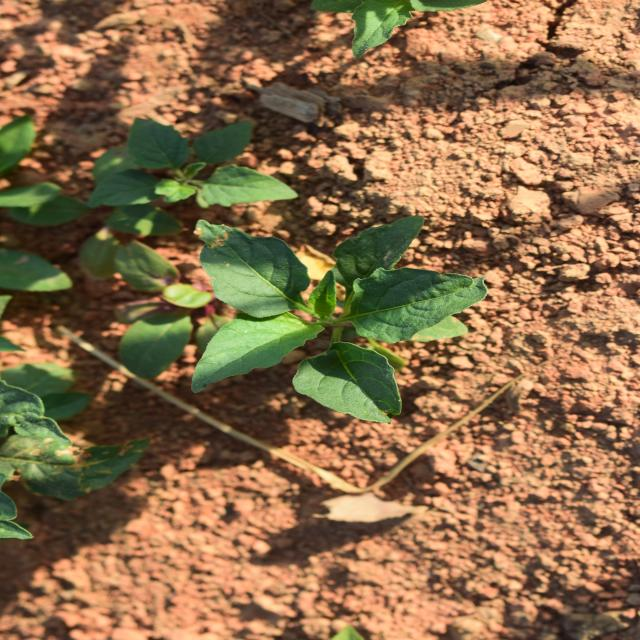Black_nightshade: (213, 173, 407, 465), (423, 103, 531, 288)
